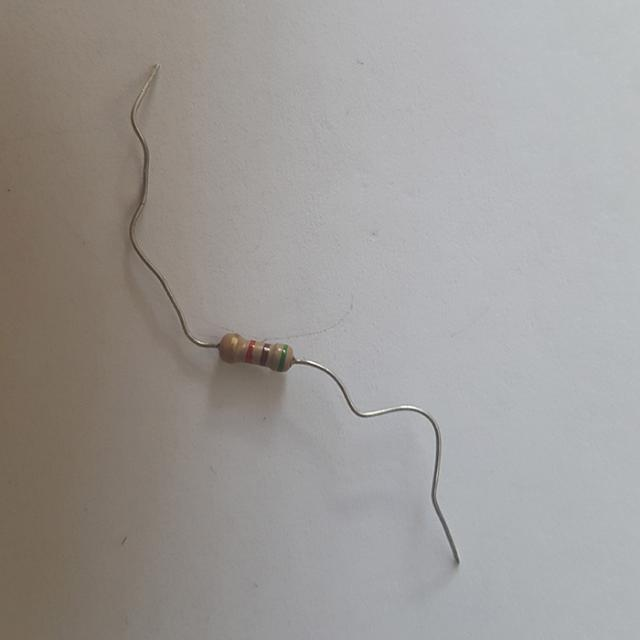brown: (262, 344, 269, 365)
gold: (230, 335, 237, 360)
green: (280, 346, 287, 370)
red: (247, 342, 255, 363)
resistor: (216, 330, 296, 382)
